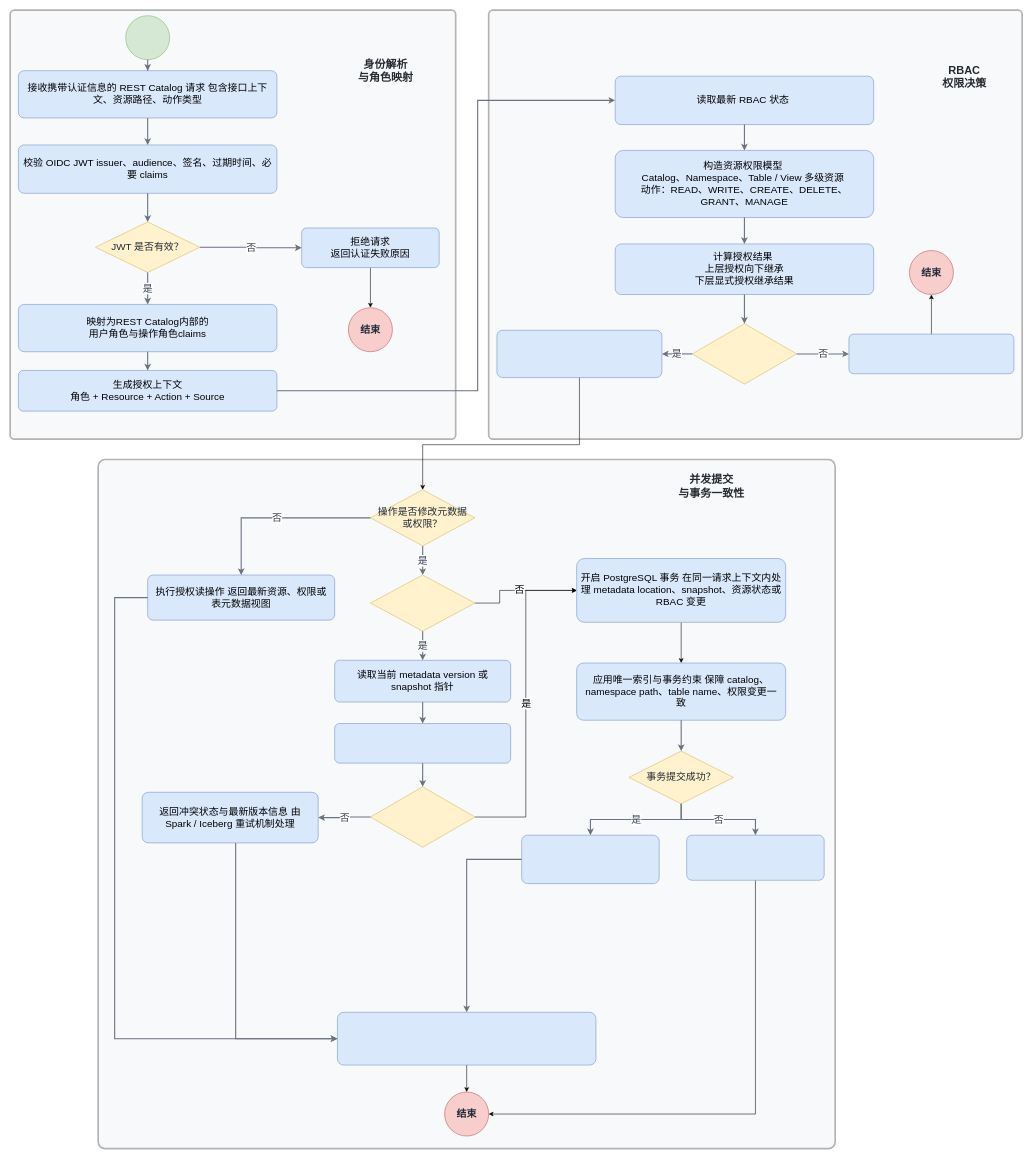
The diagram is 1032 pixels wide and 1159 high, and some of its shapes have lost their labels. Each missing label, with the centre of its shape:
写入操作记录与认证主体、授权结果、资源 ID、来源、动作、版本、事务结果: (466,1038)
回滚事务 记录失败上下文并返回错误: (755,857)
开始: (147,37)
当前角色对资源动作 是否授权？: (744,353)
拒绝请求 返回操作权限不足: (931,354)
提交成功 更新元数据版本、 snapshot 指针或权限状态: (590,859)
是否为Iceberg metadata commit？: (422,602)
期望版本与当前版本 是否一致？: (422,816)
校验提交请求携带的期望版本: (422,743)
生成一致性请求上下文 角色、resource_id、action、source: (579,354)
